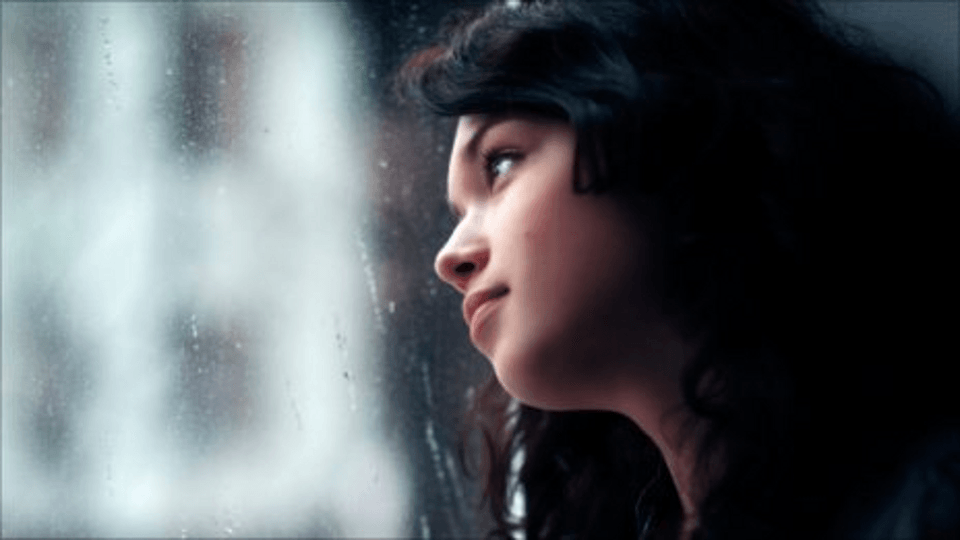sad: (376, 96, 678, 435)
